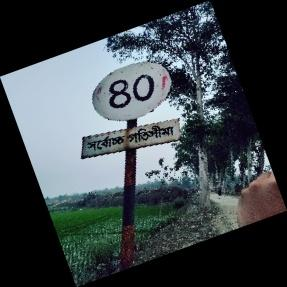Speed-limit: (83, 60, 179, 160)
